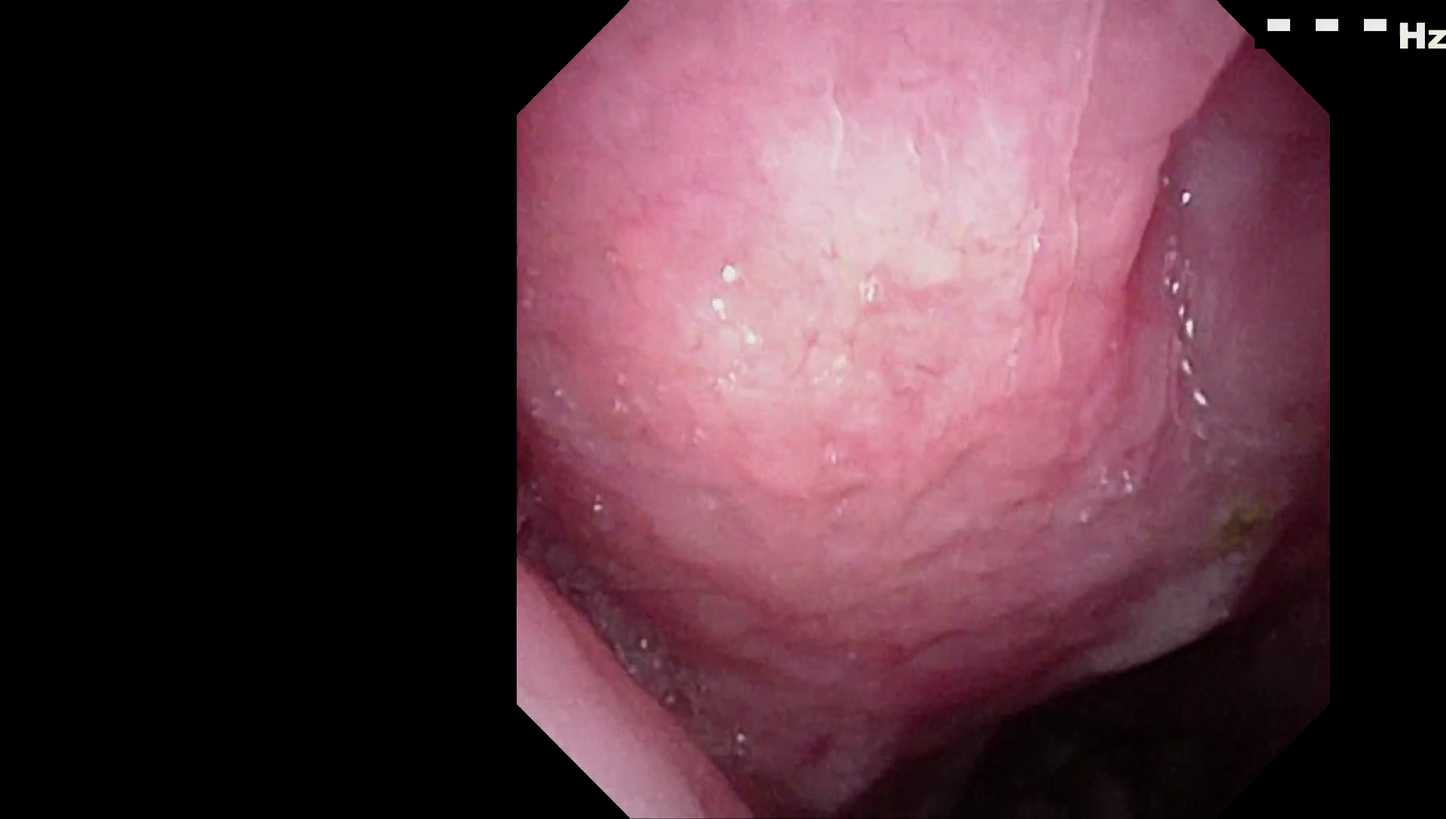close_wall: (593, 38, 1174, 544)
next: (821, 608, 1320, 819)
